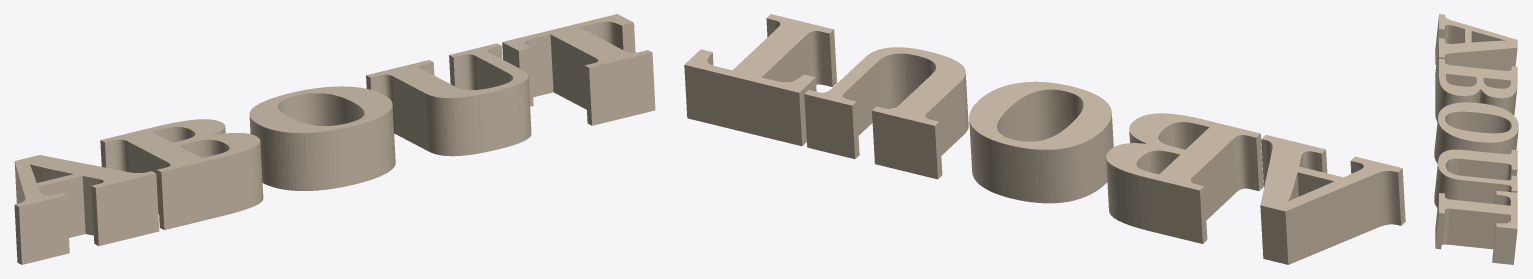
File: Abouttext.glb
3 views of the same model, side by side, from view 1: azimuth 30°, elevation 25°; view 2: azimuth 150°, elevation 25°; view 3: azimuth 270°, elevation 25° (orthographic). The views are drawn at different scales.
Parts seen in each view (by area): view 1: Mesh_Mesh_head_geo.001_lambert2SG.001; view 2: Mesh_Mesh_head_geo.001_lambert2SG.001; view 3: Mesh_Mesh_head_geo.001_lambert2SG.001.
Part boxes in pixels (left/top/right/bottom): Mesh_Mesh_head_geo.001_lambert2SG.001: left=14, top=14, right=655, bottom=264; Mesh_Mesh_head_geo.001_lambert2SG.001: left=684, top=14, right=1405, bottom=264; Mesh_Mesh_head_geo.001_lambert2SG.001: left=1434, top=14, right=1518, bottom=264.
Bounding box in the file's own units: 124 × 12.37 × 21.42.
